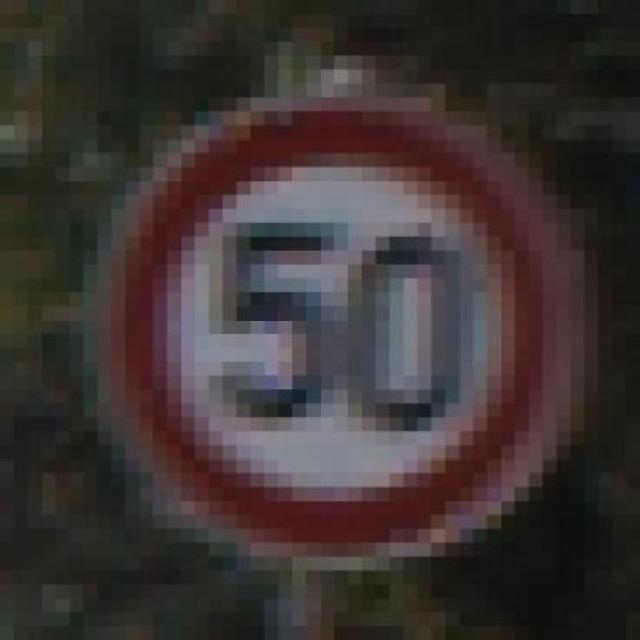forb_speed_over_50: (117, 98, 554, 560)
